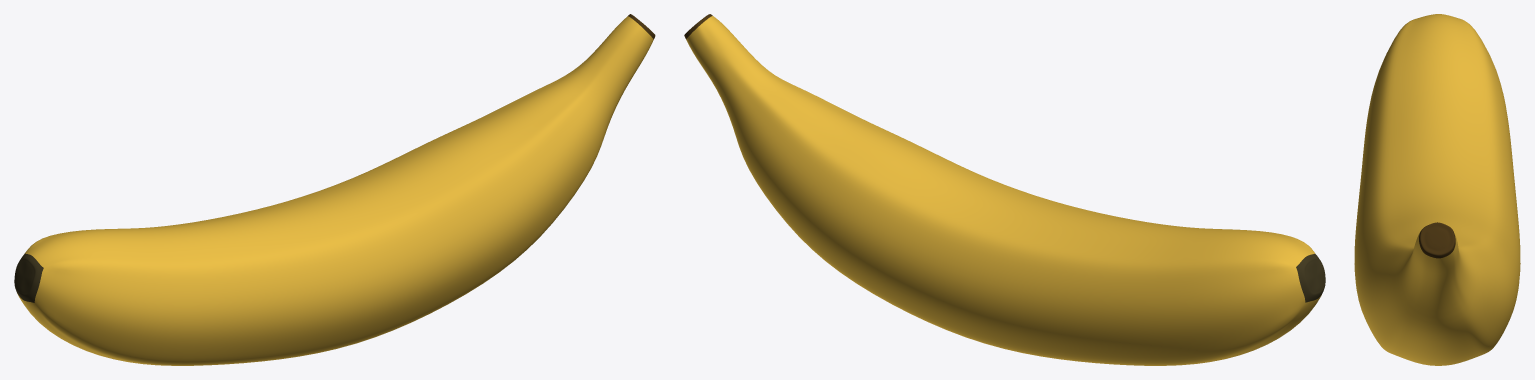
Rendered from banana.fbx.
The picture shows the model from 3 angles, left to right: view 1: azimuth 30°, elevation 25°; view 2: azimuth 150°, elevation 25°; view 3: azimuth 270°, elevation 25°; orthographic projection. The views are drawn at different scales.
Parts seen in each view (by area): view 1: banana; view 2: banana; view 3: banana.
Boxes of the visible parts, box(x1,y1,x2,y2) form: banana: box(14, 14, 655, 365); banana: box(684, 14, 1325, 365); banana: box(1354, 14, 1520, 365).
Size of the model in its own units: 727 by 273 by 157.
